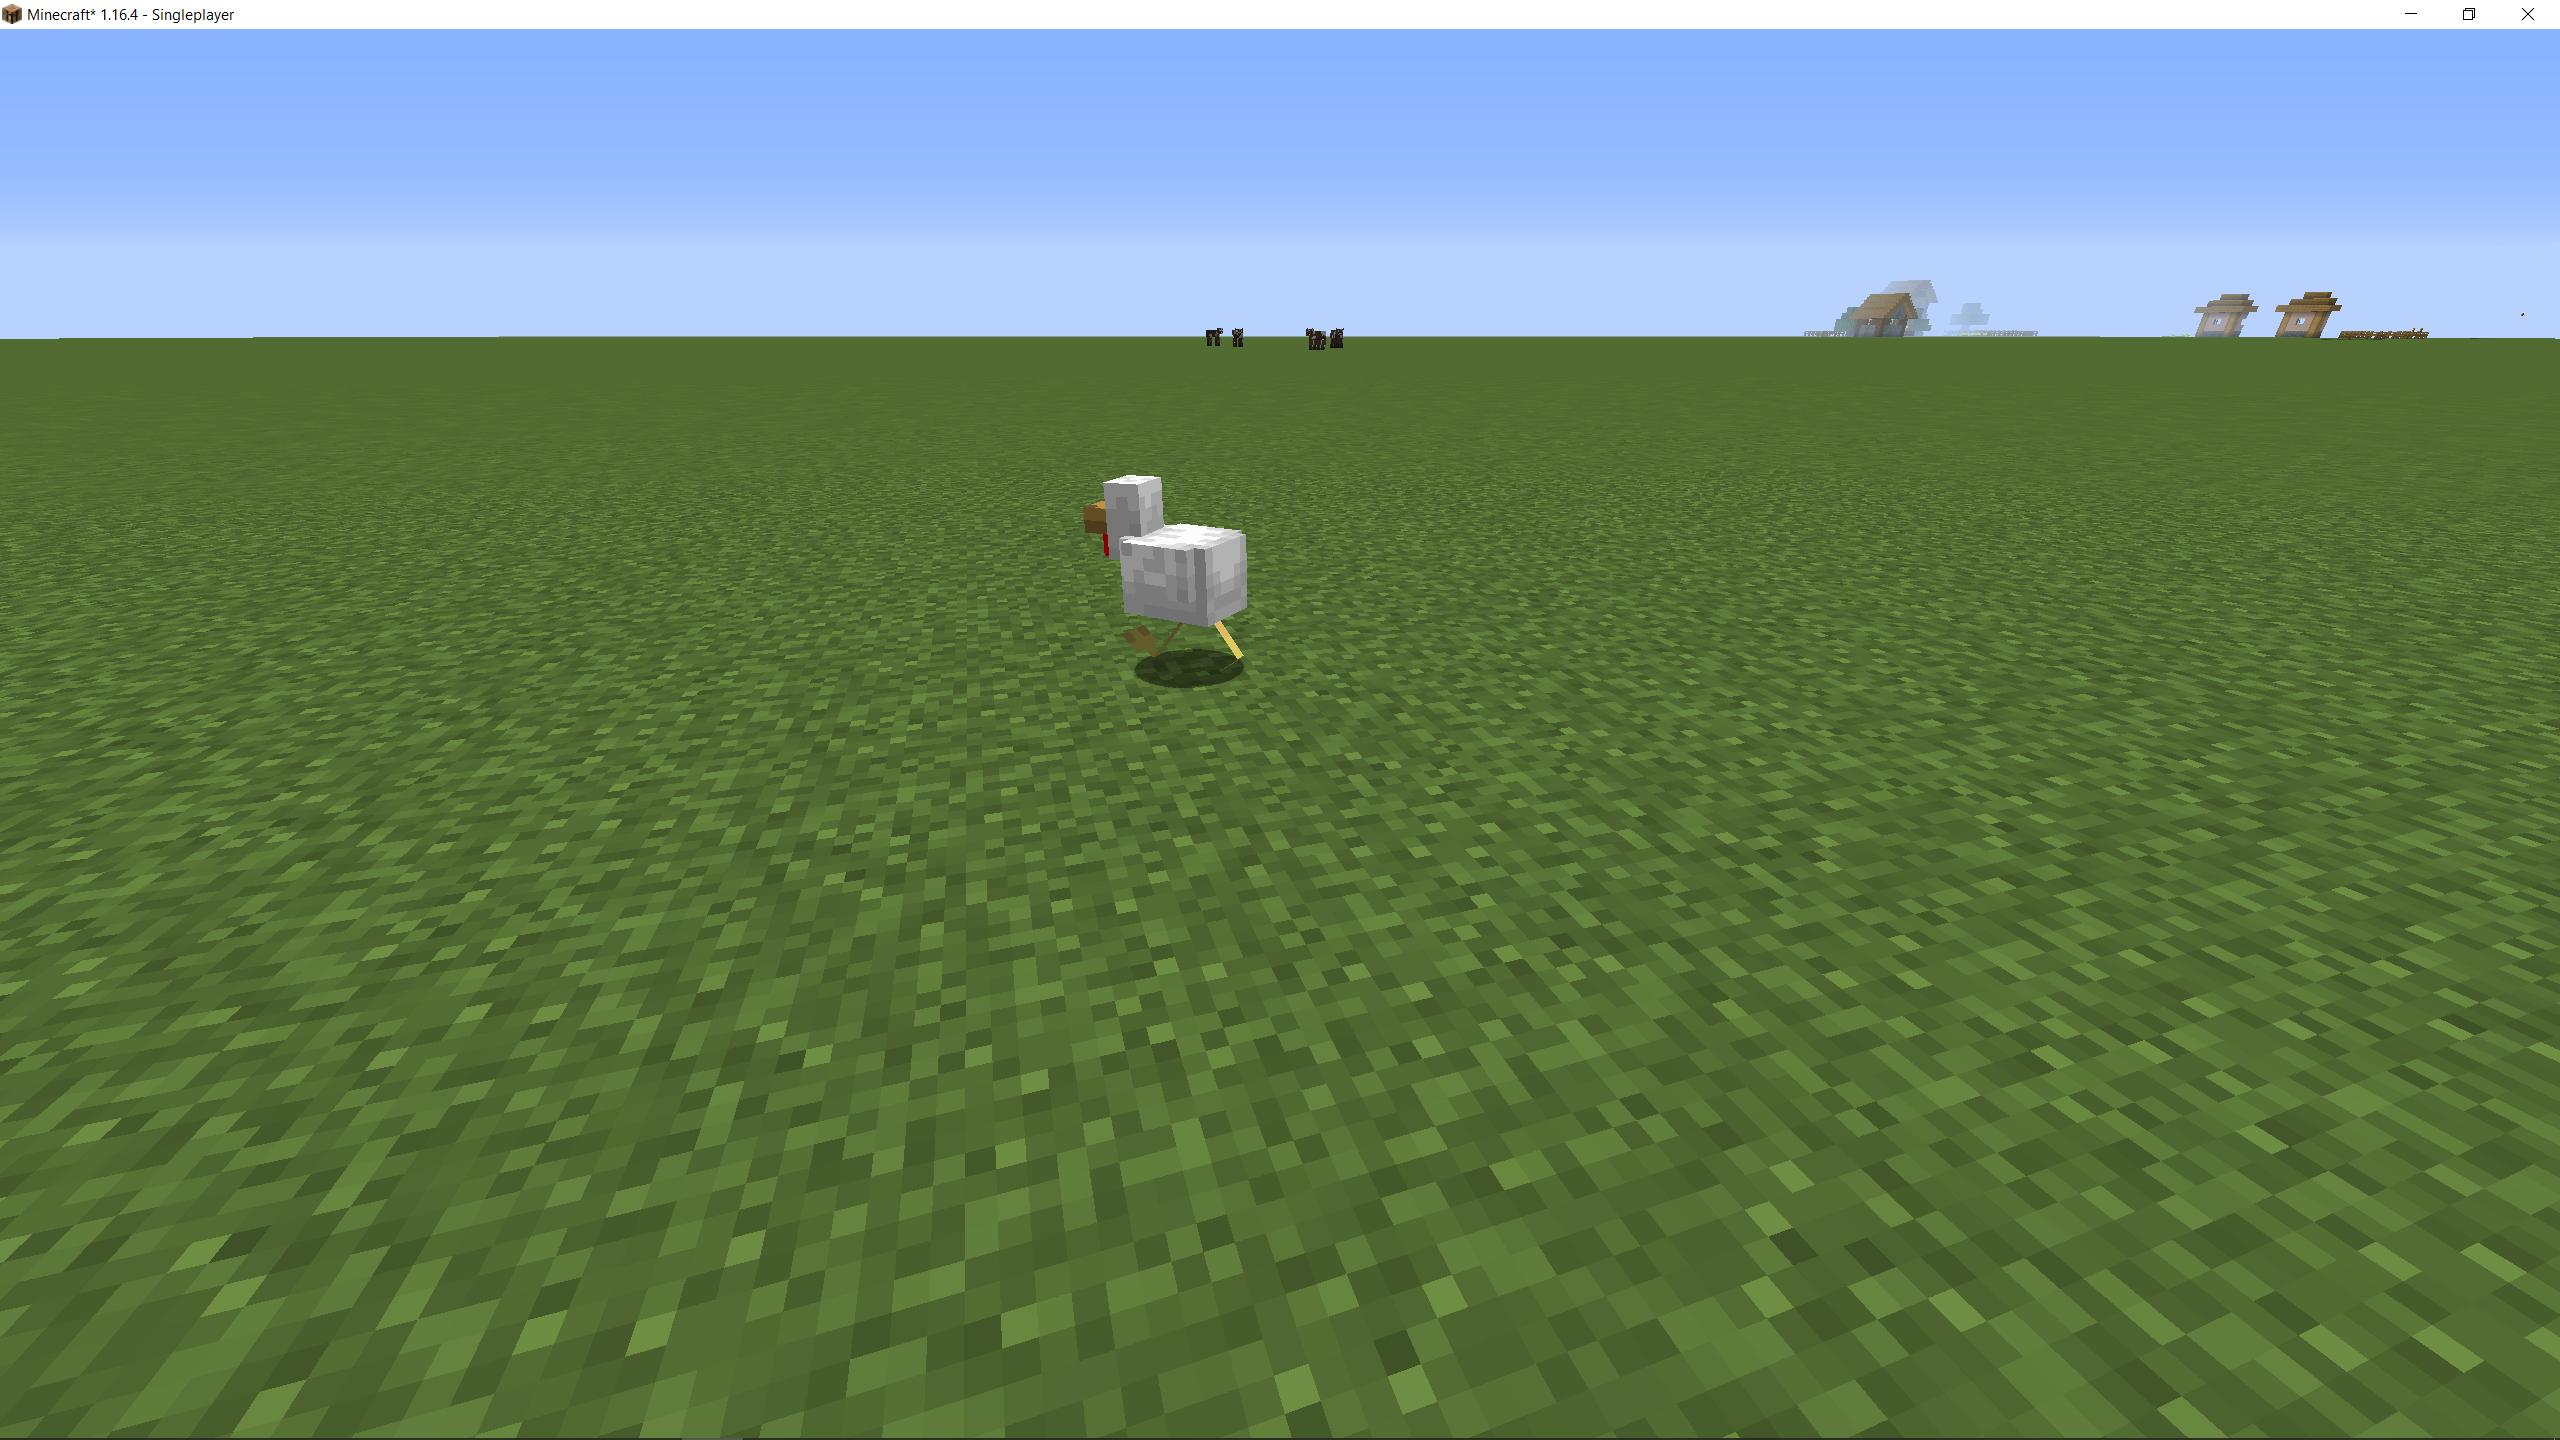chicken: (1074, 462, 1261, 680)
